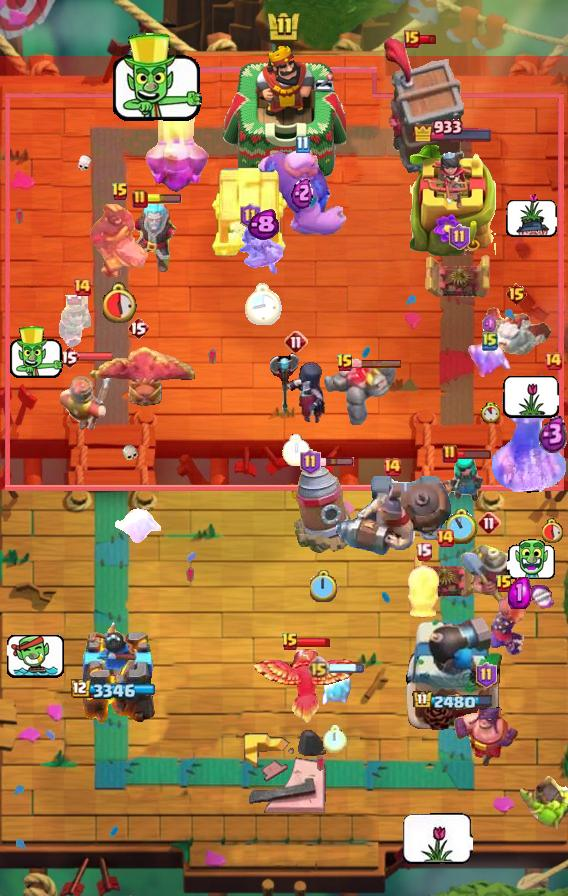balloon: (255, 146, 349, 238)
bandit: (458, 537, 520, 609)
bat: (314, 671, 356, 709)
bomb: (209, 164, 289, 258)
bomber-evolution: (56, 295, 107, 351)
dart-goblin: (382, 36, 466, 174)
earthquake: (59, 362, 115, 432)
electro-dragon: (490, 371, 568, 499)
electro-spirit: (540, 415, 568, 453), (247, 209, 279, 241), (509, 577, 532, 609), (291, 177, 313, 209), (482, 314, 498, 334)
elixir: (244, 283, 282, 325), (103, 282, 138, 323), (446, 509, 478, 544), (282, 434, 310, 466), (310, 570, 338, 602), (323, 725, 347, 753), (542, 518, 564, 543), (480, 401, 500, 422)
emote: (351, 358, 403, 370), (327, 662, 365, 674), (317, 456, 354, 468), (78, 350, 114, 361), (456, 448, 492, 459), (297, 637, 331, 648), (146, 194, 182, 204), (418, 35, 438, 46)
executioner: (405, 562, 441, 622)
freeze: (89, 202, 151, 282)
furnace: (142, 74, 210, 194)
goblin-brawler: (424, 252, 494, 302), (410, 552, 480, 602)
golden-knight: (250, 647, 362, 727)
king-tower: (223, 43, 345, 181)
magic-archer: (294, 460, 354, 554)
mini-pekka: (479, 305, 553, 359)
mirror: (465, 339, 515, 377), (111, 507, 161, 545)
monk: (453, 691, 519, 769)
mortar: (113, 200, 189, 276)
mother-witch: (81, 345, 195, 411)
queen-tower: (410, 144, 496, 255), (72, 619, 156, 731)
rascal-boy: (266, 351, 326, 427)
selected: (412, 116, 494, 142), (70, 679, 157, 701), (412, 690, 494, 712)
skeleton: (109, 34, 207, 127), (401, 812, 473, 864), (7, 326, 64, 381), (6, 633, 65, 681), (503, 374, 559, 417), (505, 192, 557, 238), (508, 539, 557, 581)
skeleton-dragon: (238, 220, 288, 276)
tesla-evolution: (485, 583, 555, 657)
text: (284, 330, 308, 354), (477, 511, 501, 535), (505, 282, 528, 306), (240, 203, 261, 229), (449, 224, 470, 250), (300, 449, 321, 475), (476, 662, 497, 688), (306, 657, 329, 680), (127, 316, 149, 340), (58, 345, 80, 369), (72, 277, 92, 297), (543, 351, 563, 371), (382, 457, 402, 477), (435, 528, 455, 548), (111, 182, 129, 202), (336, 353, 354, 373), (495, 574, 513, 594), (281, 632, 299, 652), (415, 542, 433, 561), (132, 189, 148, 209), (482, 331, 498, 351), (442, 444, 458, 464), (404, 30, 420, 48), (295, 134, 309, 153)
tower-bar: (402, 615, 504, 731)
valkyrie-evolution: (322, 360, 398, 428)
witch: (438, 452, 486, 502)
wizard: (331, 473, 453, 557)
x-bow: (520, 774, 568, 830)
